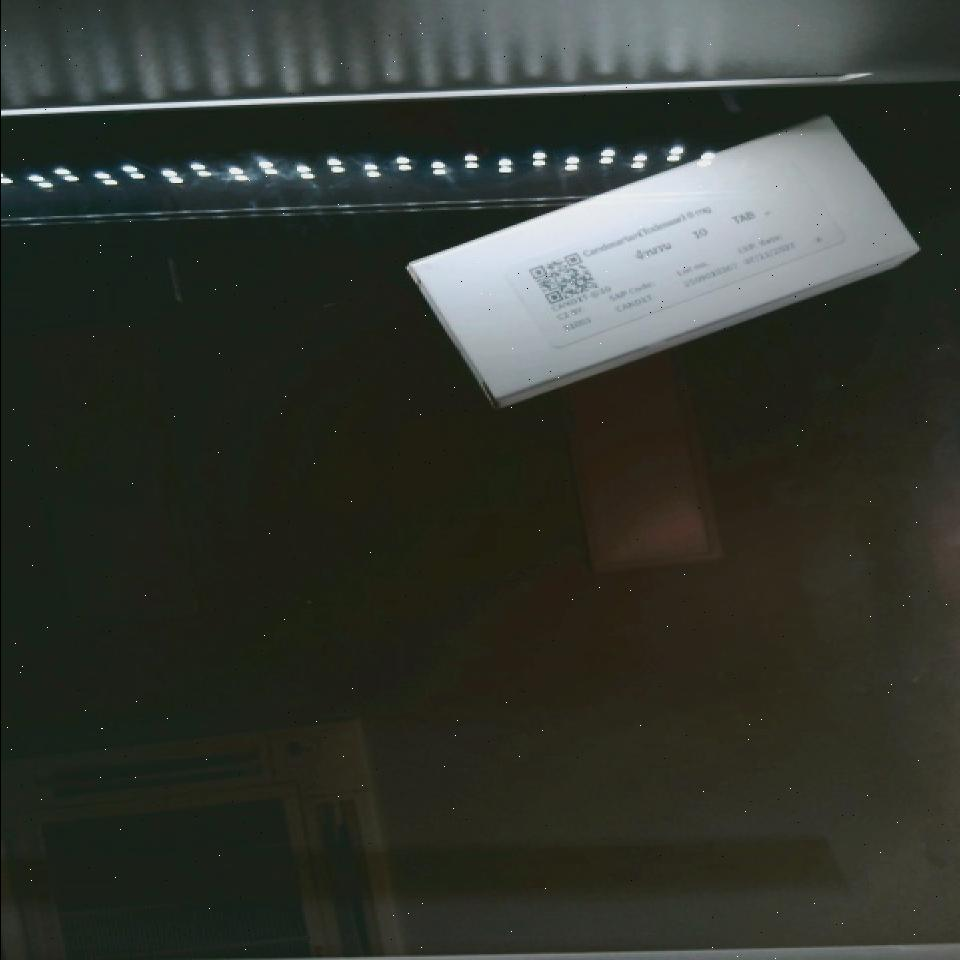medicine_box: (408, 100, 918, 417)
qr_code: (504, 233, 620, 331)
